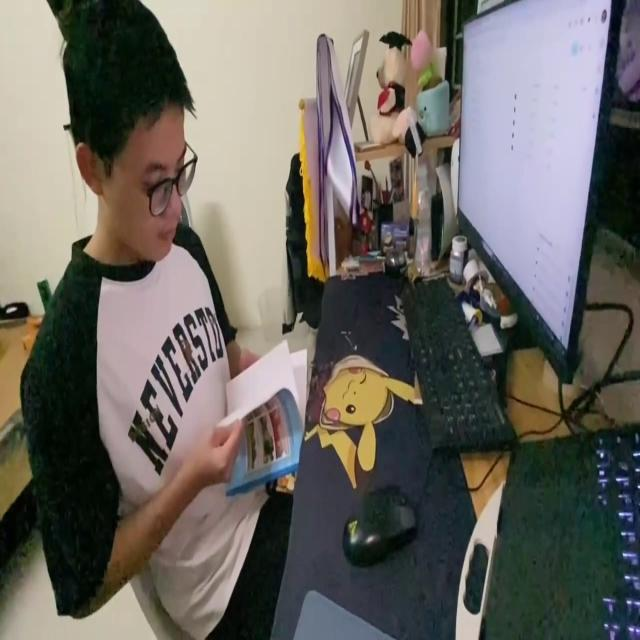book: (207, 334, 311, 484)
laptop: (457, 0, 626, 387)
student: (20, 0, 295, 640)
